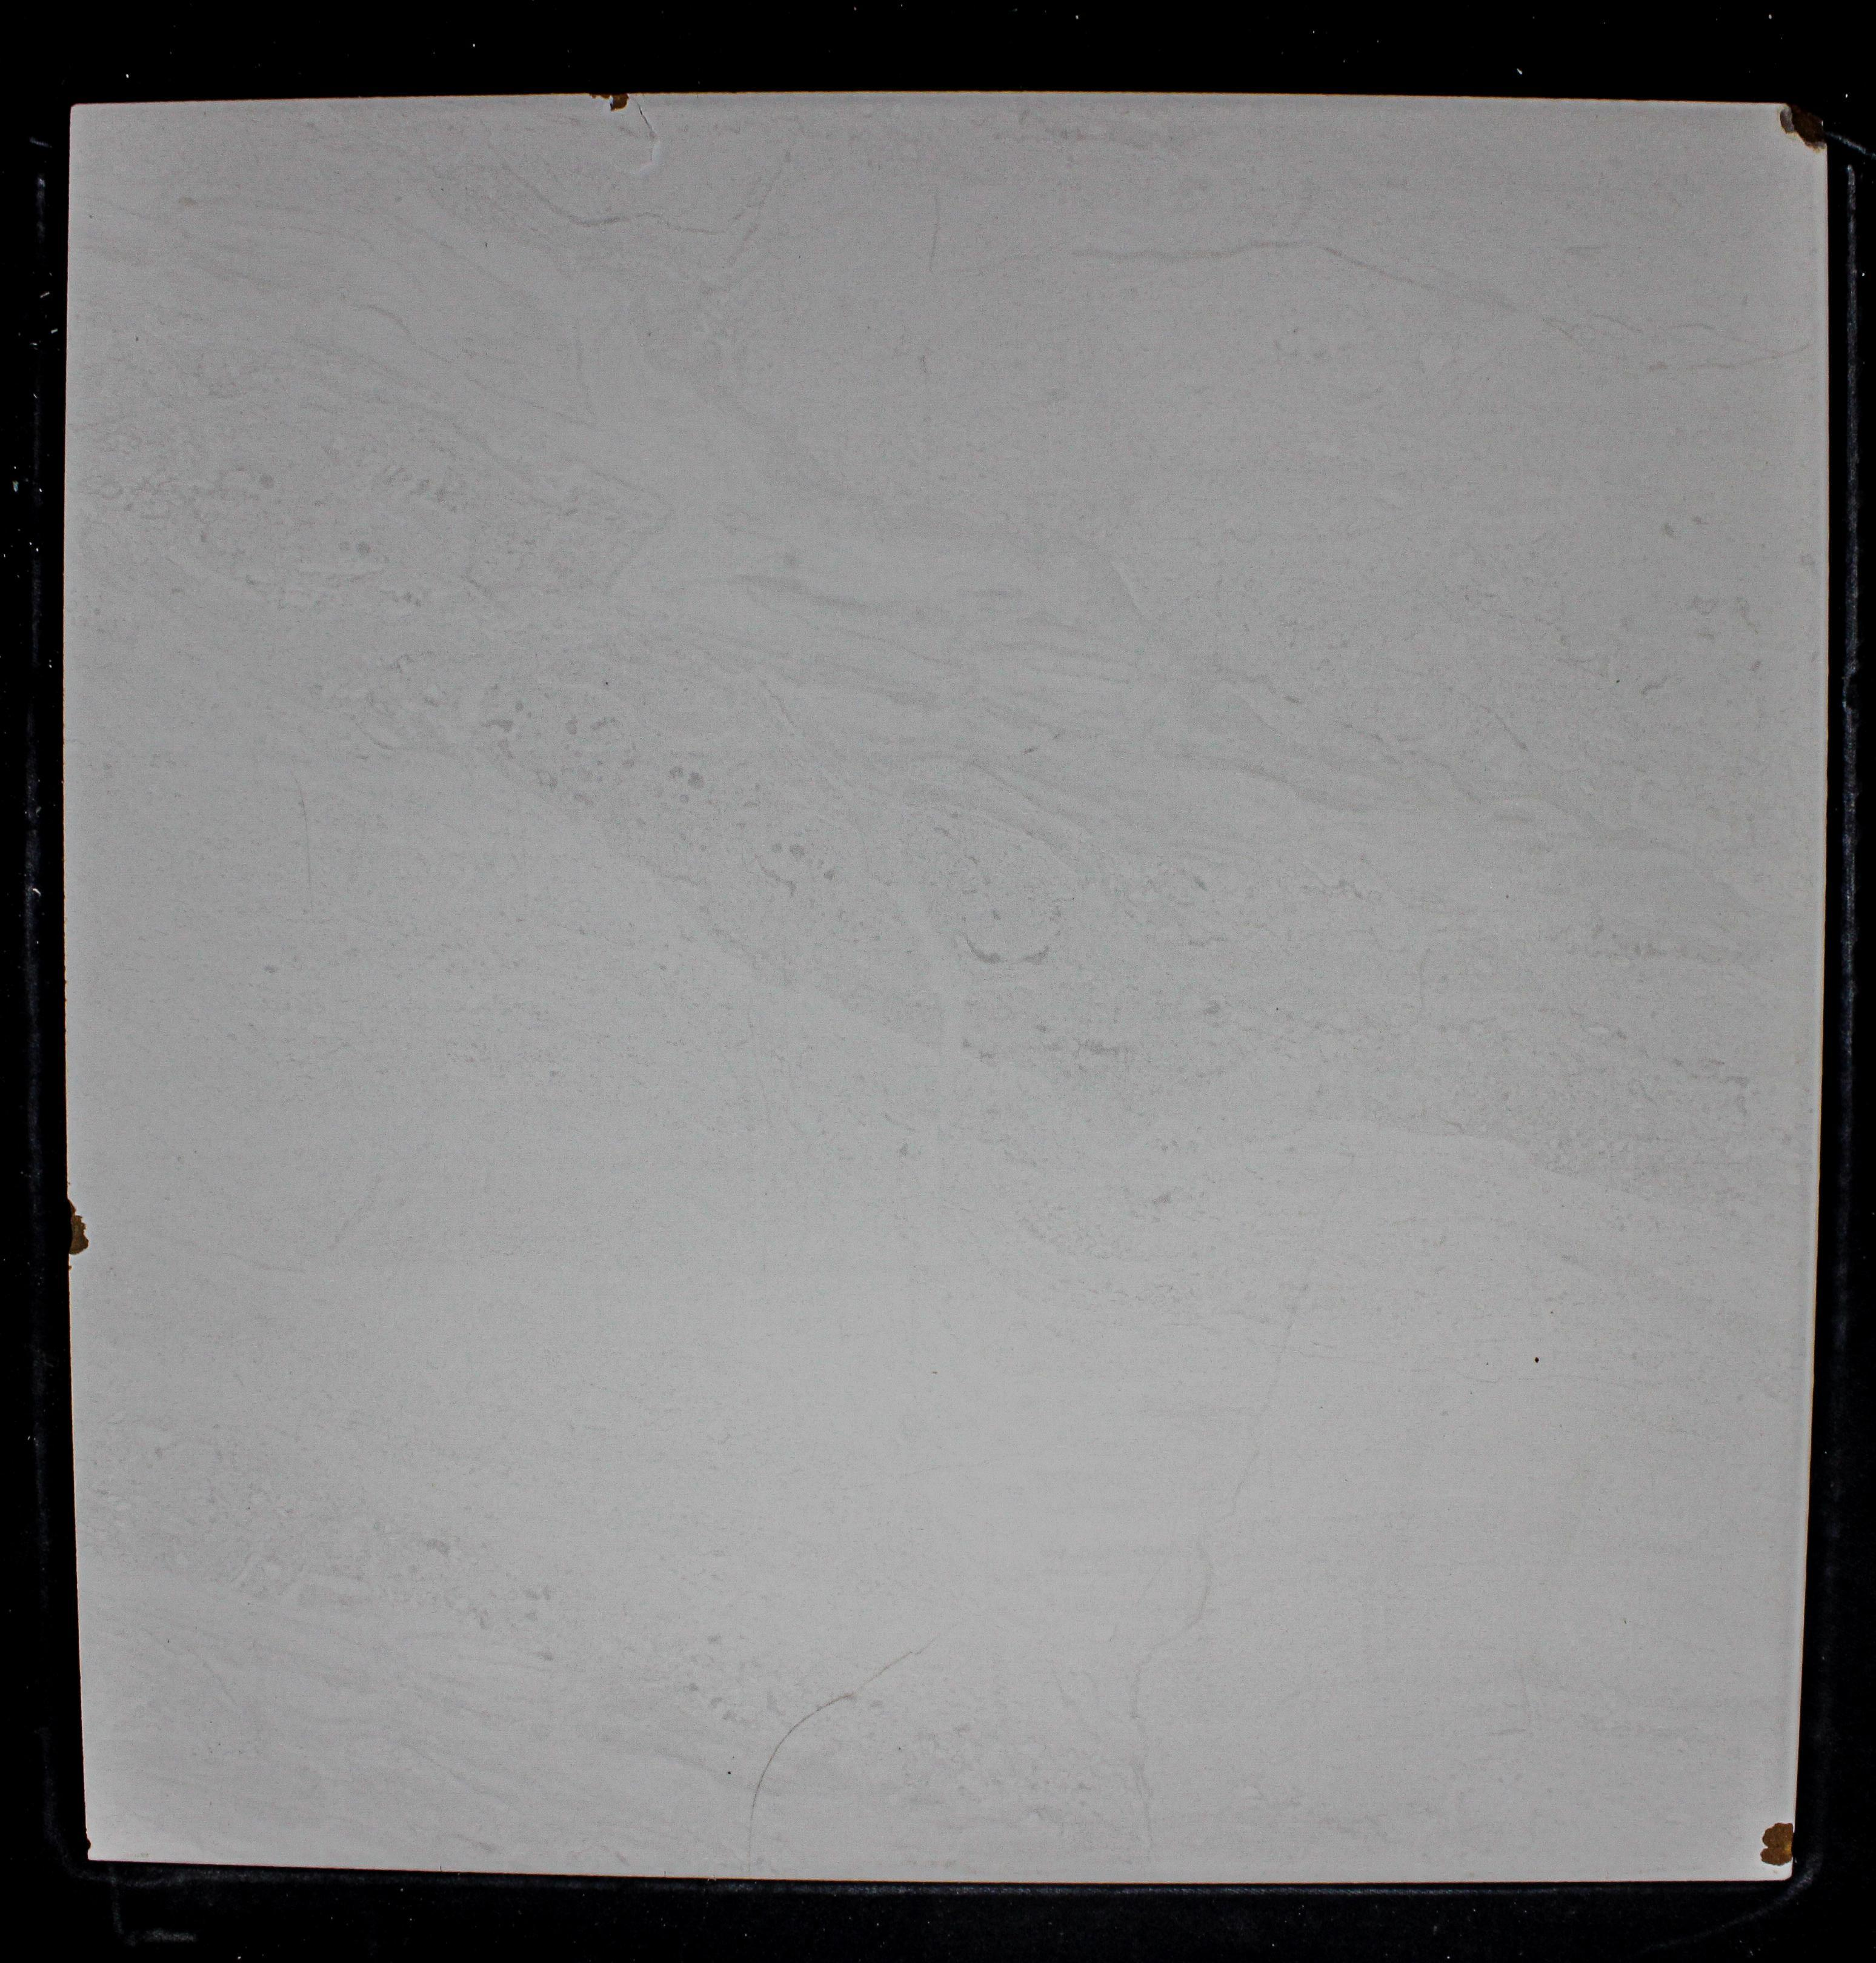edge-chipping: (1774, 95, 1832, 156), (1757, 1821, 1801, 1865), (65, 1199, 91, 1258), (586, 91, 629, 114), (84, 1835, 93, 1854)
line: (798, 1626, 945, 1719), (749, 1723, 798, 1877)
